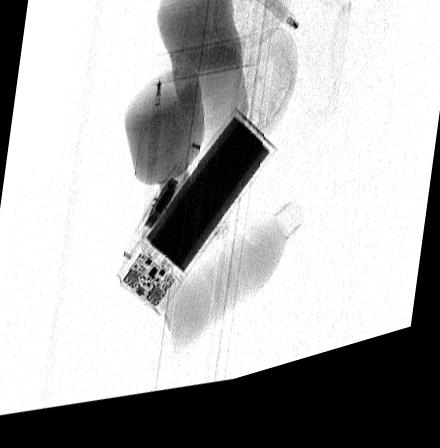Powerbank: (117, 121, 277, 325)
